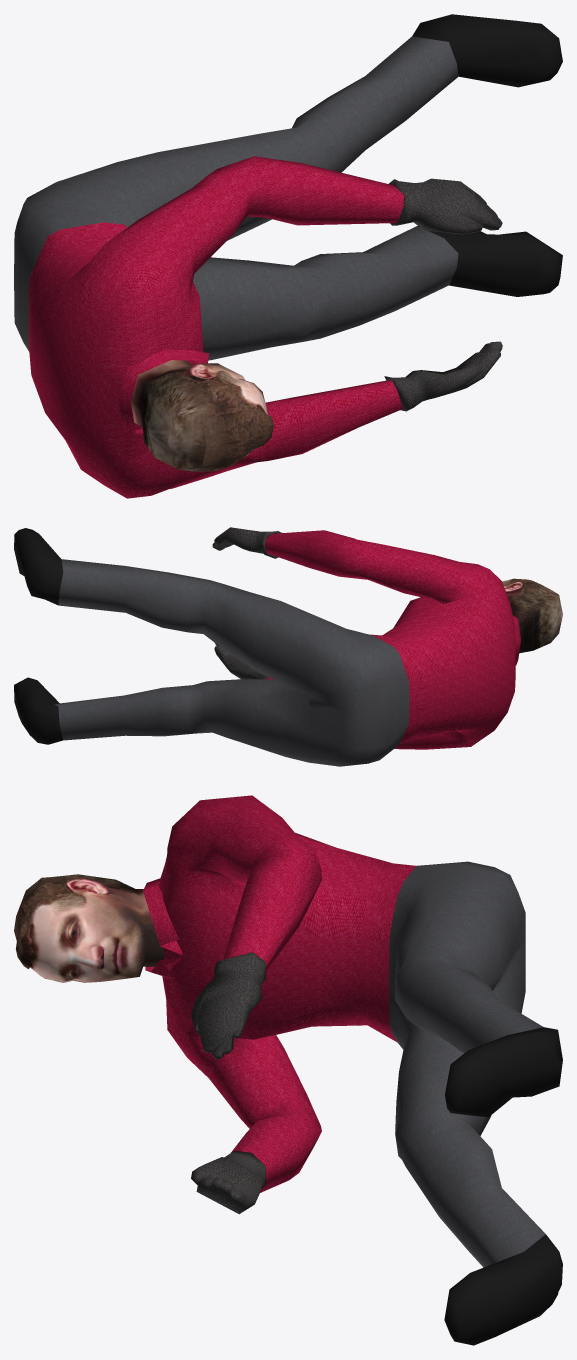
Rendered from driver.obj.
3 renders of one model, top to bottom at view 1: azimuth 30°, elevation 25°; view 2: azimuth 150°, elevation 25°; view 3: azimuth 270°, elevation 25°, orthographic. The views are drawn at different scales.
Visible parts, largest first — view 1: Shirt, Pants, Shoes, 11_-_Default, glove, 12_-_Default; view 2: Pants, Shirt, Shoes, 11_-_Default, glove; view 3: Shirt, Pants, Shoes, 11_-_Default, glove.
Part boxes in pixels (x1,y1,x2,y2): Shirt: (29,156,404,498); Pants: (14,36,458,360); Shoes: (412,14,562,296); 11_-_Default: (131,360,273,471); glove: (384,178,502,411); 12_-_Default: (202,407,268,466); Pants: (54,559,409,766); Shirt: (264,530,520,749); Shoes: (14,528,63,744); 11_-_Default: (502,578,562,653); glove: (212,527,281,679); Shirt: (143,795,415,1192); Pants: (389,861,545,1267); Shoes: (444,1027,562,1345); 11_-_Default: (16,874,163,982); glove: (191,952,265,1214).
Bounding box in the file's own units: 1.26 × 0.5988 × 0.9311.
Materials: 6 (5 with a texture image).
